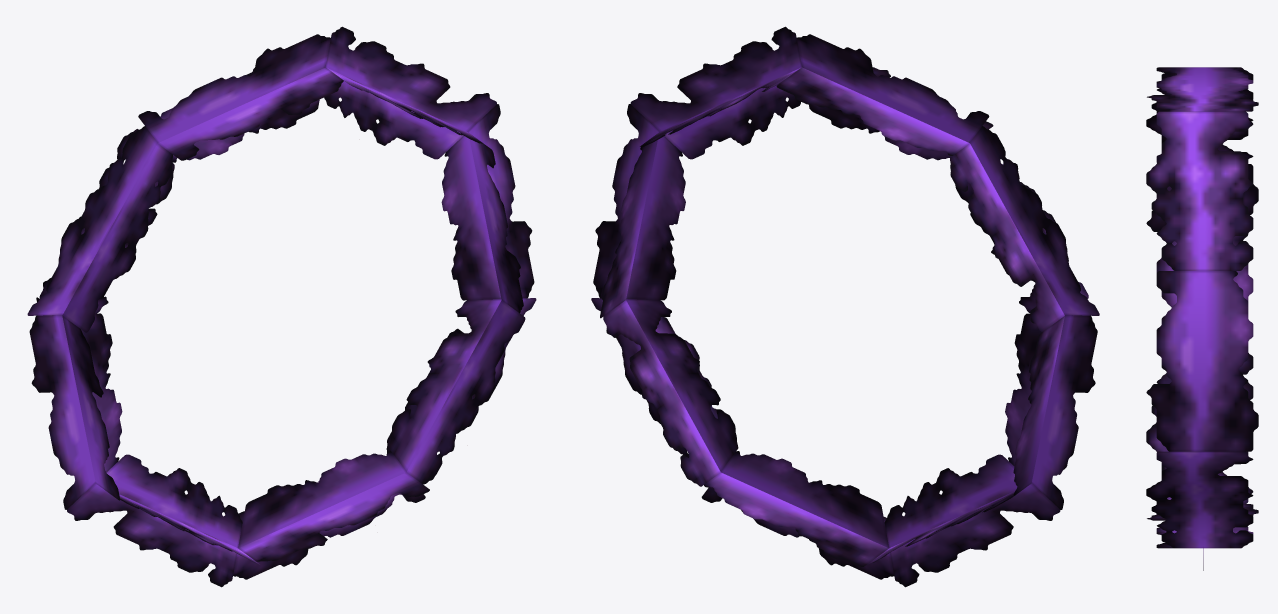
3 renders of one model, left to right at view 1: azimuth 30°, elevation 25°; view 2: azimuth 150°, elevation 25°; view 3: azimuth 270°, elevation 25°, orthographic. The views are drawn at different scales.
Parts seen in each view (by area): view 1: T1L3M009_26; view 2: T1L3M009_26; view 3: T1L3M009_26.
Part boxes in pixels (<box>): T1L3M009_26: <box>27,26,536,587</box>; T1L3M009_26: <box>591,26,1099,587</box>; T1L3M009_26: <box>1146,67,1258,570</box>.
Bounding box in the file's own units: 2.83 × 2.83 × 0.5957.
Materials: 1 (1 with a texture image).
